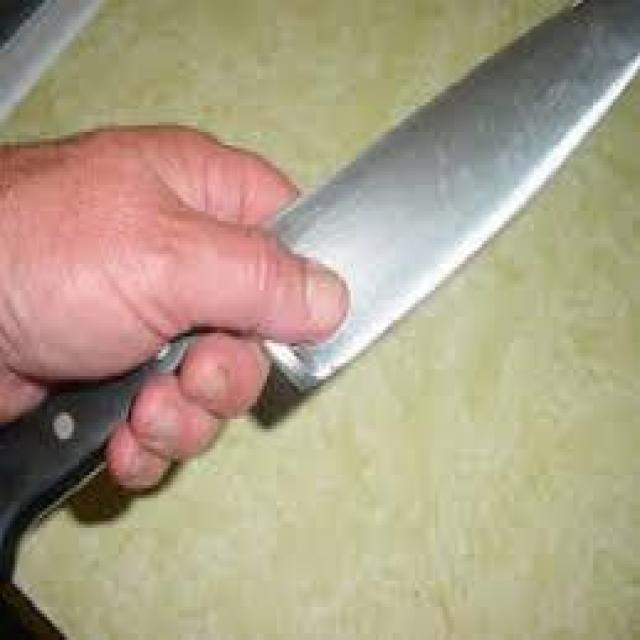faca: (5, 0, 640, 521)
